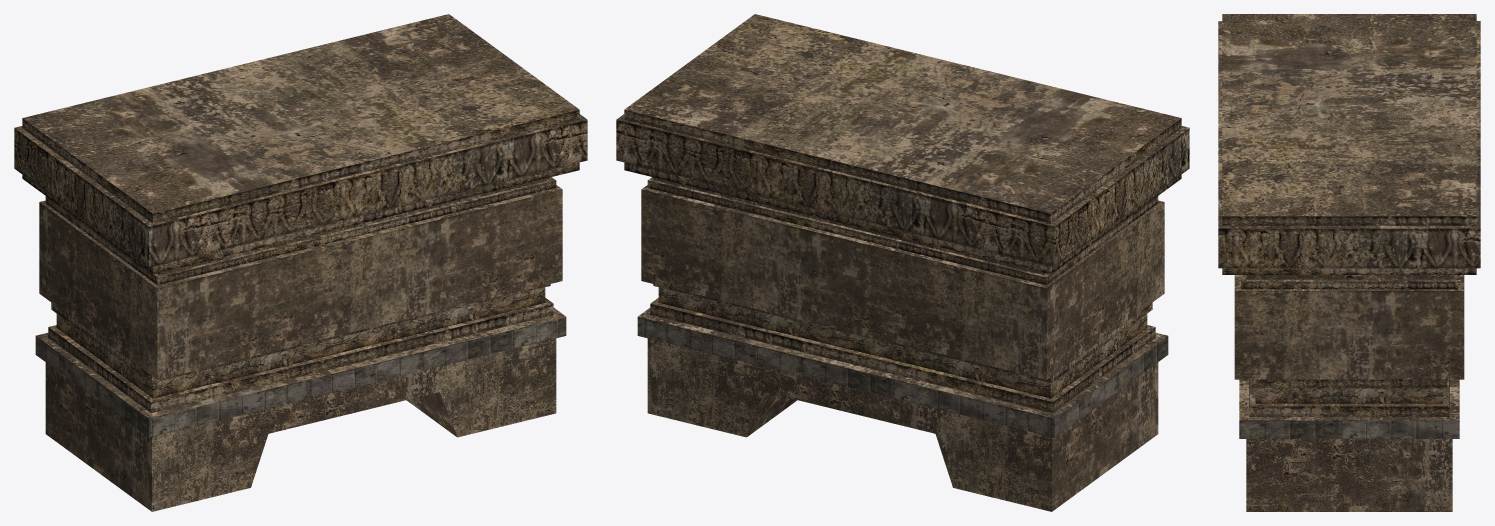
Rendered from materials_5_pedestal_3.fbx.
3 views of the same model, side by side, from view 1: azimuth 30°, elevation 25°; view 2: azimuth 150°, elevation 25°; view 3: azimuth 270°, elevation 25° (orthographic). The views are drawn at different scales.
Parts seen in each view (by area): view 1: materials_5_pedestal_3; view 2: materials_5_pedestal_3; view 3: materials_5_pedestal_3.
Boxes of the visible parts, bbox=[...] form: materials_5_pedestal_3: bbox=[14, 14, 587, 511]; materials_5_pedestal_3: bbox=[616, 14, 1189, 511]; materials_5_pedestal_3: bbox=[1218, 14, 1480, 511].
Size of the model in its own units: 128 by 86.74 by 68.59.
